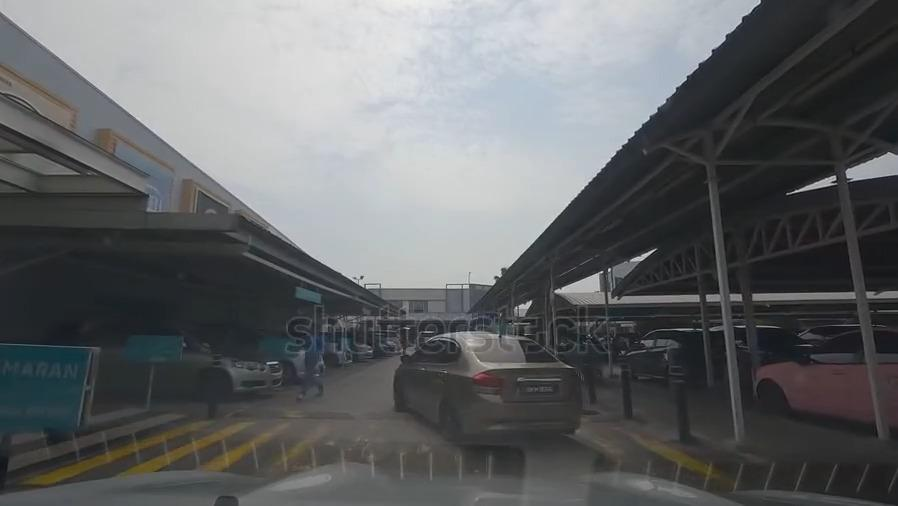car: (399, 333, 580, 431), (61, 329, 287, 401), (751, 337, 898, 413), (618, 332, 733, 381), (735, 325, 803, 355), (266, 345, 326, 378), (314, 340, 353, 366), (351, 347, 375, 359), (417, 328, 431, 345)
manhole: (582, 409, 602, 419)
pedestrian: (1, 427, 737, 492)
person: (295, 331, 319, 396)
speedbump: (232, 404, 629, 425)
wheel: (198, 368, 227, 396), (440, 399, 456, 446), (325, 351, 339, 368)
